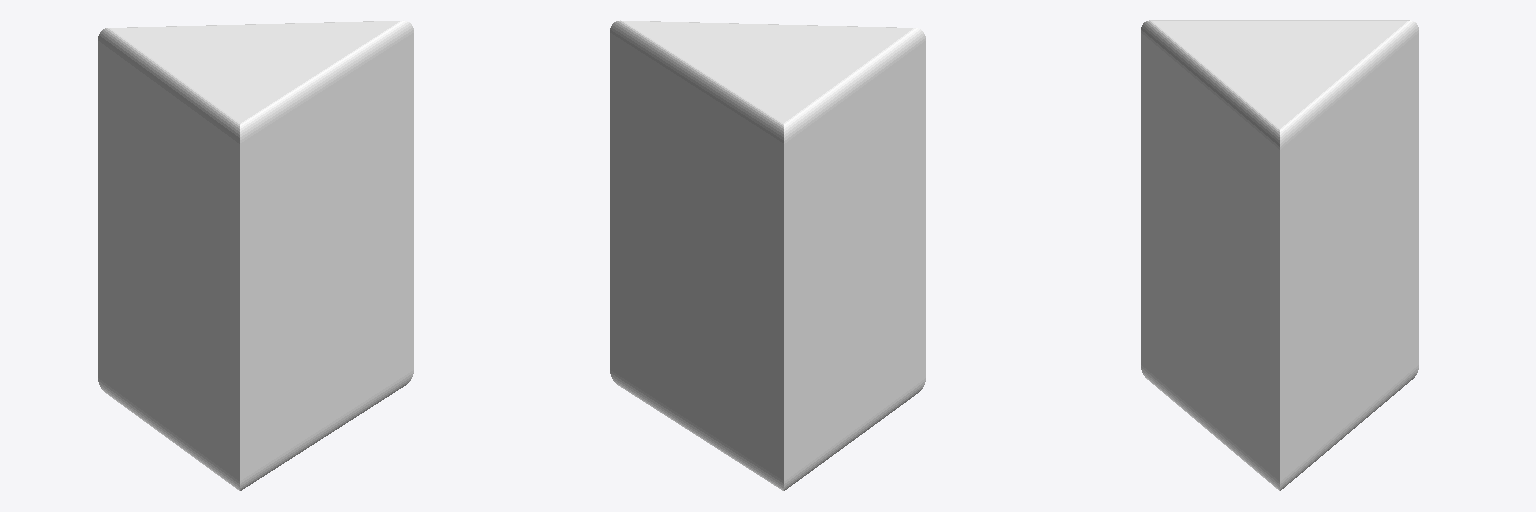
URDF robot description (apple.urdf):
<?xml version="0.0" ?>
<robot name="apple.urdf">
  <link name="baseLink">
    <contact>
      <lateral_friction value="0.3"/>
      <stiffness value="10000.0"/>
    </contact>
    <inertial>
      <origin rpy="0 0 0" xyz="0 0 0"/>
       <mass value="0.1"/>
       <inertia ixx="1" ixy="0" ixz="0" iyy="1" iyz="0" izz="1"/>
    </inertial>
    <visual>
      <origin rpy="0 0 0" xyz="0 0 0"/>
      <geometry>
            <mesh filename="clip.stl" scale="0.001 0.001 0.001"/>
      </geometry>
       <material name="white">
        <color rgba="1 1 1 1"/>
      </material>
    </visual>
    <collision>
      <origin rpy="0 0 0" xyz="0 0 0"/>
      <geometry>
	 	<mesh filename="clip.stl" scale="0.001 0.001 0.001"/>
      </geometry>
    </collision>
  </link>  
</robot>

--- Facts derived from the render (not from the file) ---
Views: 3 orthographic renders of the robot side by side, from view 1: azimuth 30°, elevation 25°; view 2: azimuth 150°, elevation 25°; view 3: azimuth 270°, elevation 25°.
Robot: apple.urdf — 1 links, 0 joints (none); root link baseLink; default pose: all joints at 0.
Visible links, largest first — view 1: baseLink; view 2: baseLink; view 3: baseLink.
Boxes of the visible links, bbox=[...] form: baseLink: bbox=[98, 20, 413, 490]; baseLink: bbox=[610, 20, 925, 490]; baseLink: bbox=[1141, 20, 1418, 490].
Bounding box of the posed robot: 0.035 × 0.035 × 0.05 m (x, y, z).
Meshes: 1 distinct files referenced, 1 mesh visuals loaded (1 binary STL).